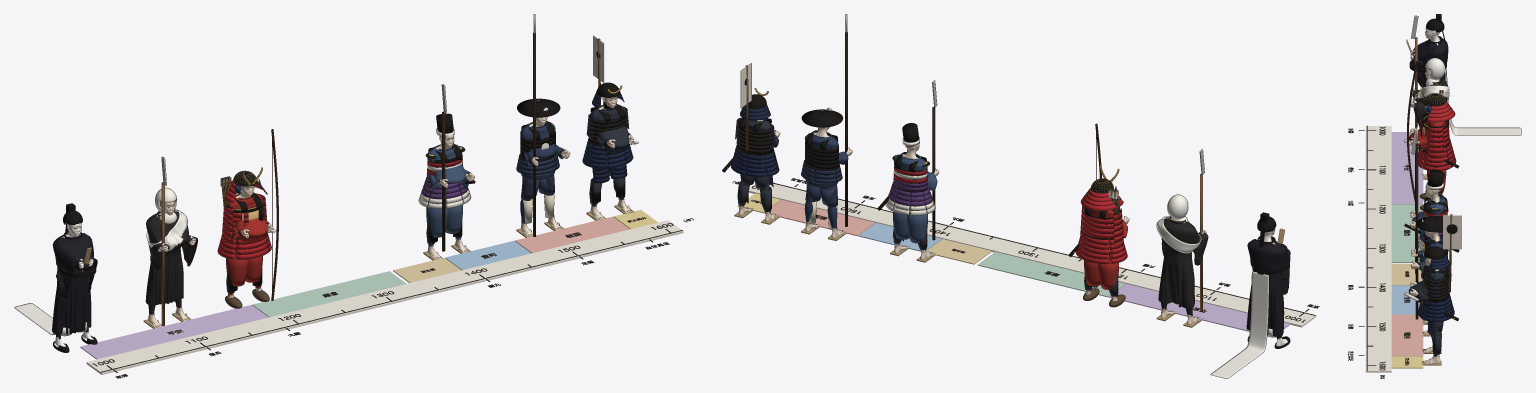
Rendered from nenpyo.glb.
3 views of the same model, side by side, from view 1: azimuth 30°, elevation 25°; view 2: azimuth 150°, elevation 25°; view 3: azimuth 270°, elevation 25° (orthographic). The views are drawn at different scales.
Parts seen in each view (by area): view 1: monosashi, jidai_平安, sokutai.ho, jidai_鎌倉, sou_sohei.koromo, jidai_戦国, jidai_室町, monosashi_fuchi, jidai_南北朝, bushi_tousei.shitagi, bushi_ooyoroi.shitagi, bushi_ashigaru.Human (+9 smaller); view 2: monosashi, sou_sohei.koromo, sokutai.kyo, sokutai.ho, jidai_鎌倉, jidai_平安, jidai_戦国, jidai_南北朝, jidai_室町, bushi_ooyoroi.kusazuri2, bushi_ashigaru.Human, bushi_doumaru.dou (+7 smaller); view 3: monosashi, jidai_平安, jidai_戦国, jidai_鎌倉, jidai_室町, sokutai.kyo, sokutai.ho, bushi_tousei.sashimono, jidai_南北朝, monosashi_fuchi, bushi_ooyoroi.oosode.L, bushi_tousei.Human (+27 smaller).
Boxes of the visible parts, bbox=[...] form: monosashi: bbox=[86, 220, 683, 374]; jidai_平安: bbox=[80, 305, 268, 359]; sokutai.ho: bbox=[52, 234, 93, 334]; jidai_鎌倉: bbox=[252, 271, 406, 317]; sou_sohei.koromo: bbox=[146, 213, 188, 305]; jidai_戦国: bbox=[515, 216, 629, 253]; jidai_室町: bbox=[445, 240, 531, 270]; monosashi_fuchi: bbox=[101, 230, 682, 372]; jidai_南北朝: bbox=[393, 257, 461, 282]; bushi_tousei.shitagi: bbox=[590, 105, 629, 162]; bushi_ooyoroi.shitagi: bbox=[228, 194, 267, 250]; bushi_ashigaru.Human: bbox=[520, 117, 569, 236]; monosashi: bbox=[748, 183, 1316, 327]; sou_sohei.koromo: bbox=[1158, 220, 1198, 308]; sokutai.kyo: bbox=[1211, 271, 1268, 378]; sokutai.ho: bbox=[1247, 238, 1287, 336]; jidai_鎌倉: bbox=[977, 252, 1125, 297]; jidai_平安: bbox=[1109, 284, 1290, 337]; jidai_戦国: bbox=[764, 200, 874, 236]; jidai_南北朝: bbox=[926, 239, 991, 264]; jidai_室町: bbox=[858, 223, 941, 251]; bushi_ooyoroi.kusazuri2: bbox=[1078, 233, 1109, 263]; bushi_ashigaru.Human: bbox=[804, 127, 852, 238]; bushi_doumaru.dou: bbox=[893, 168, 927, 190]; monosashi: bbox=[1365, 126, 1391, 372]; jidai_平安: bbox=[1391, 132, 1423, 204]; jidai_戦国: bbox=[1391, 314, 1423, 356]; jidai_鎌倉: bbox=[1391, 204, 1423, 262]; jidai_室町: bbox=[1391, 285, 1419, 314]; sokutai.kyo: bbox=[1446, 68, 1521, 135]; sokutai.ho: bbox=[1412, 38, 1447, 79]; bushi_tousei.sashimono: bbox=[1443, 215, 1461, 249]; jidai_南北朝: bbox=[1391, 263, 1422, 285]; monosashi_fuchi: bbox=[1366, 125, 1367, 370]; bushi_ooyoroi.oosode.L: bbox=[1427, 126, 1443, 157]; bushi_tousei.Human: bbox=[1410, 257, 1441, 364].
Bounding box in the file's own units: 7.85 × 2.8 × 2.25.
